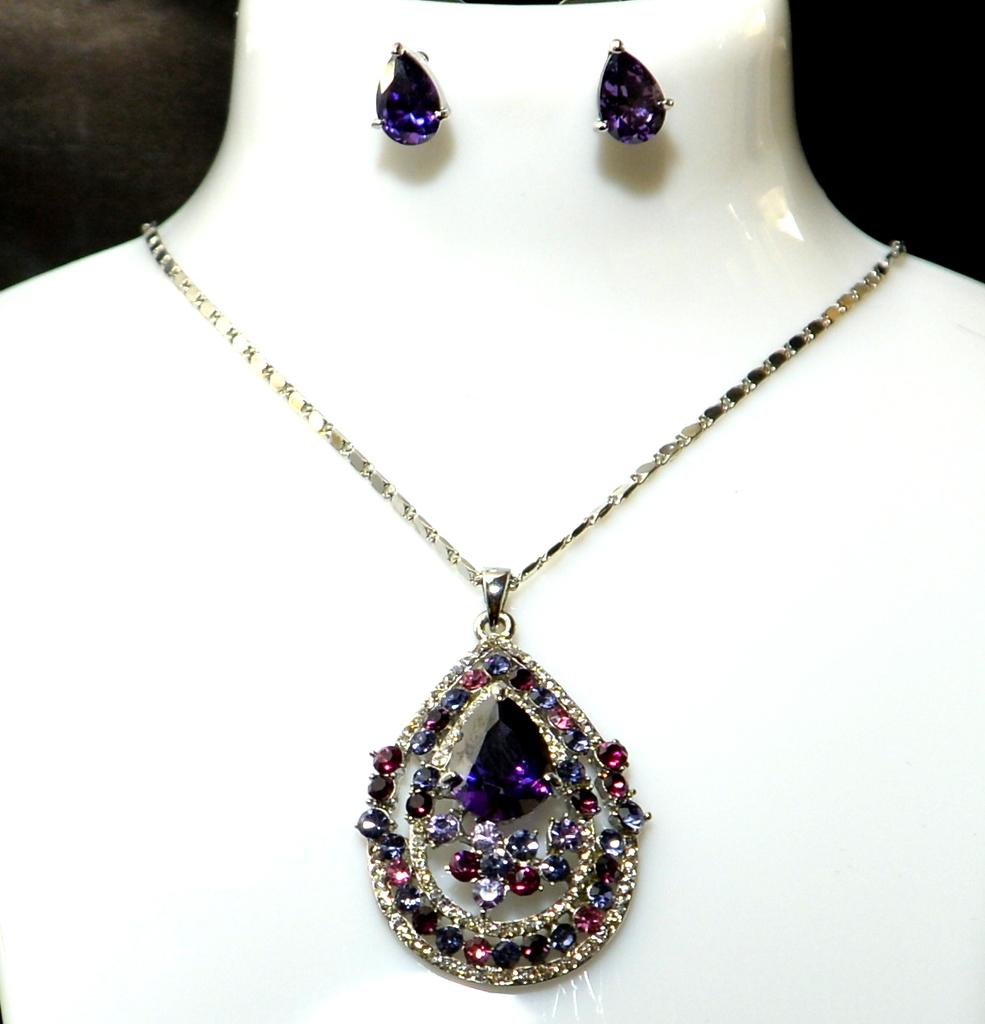earring: (366, 39, 450, 146), (591, 38, 673, 143)
